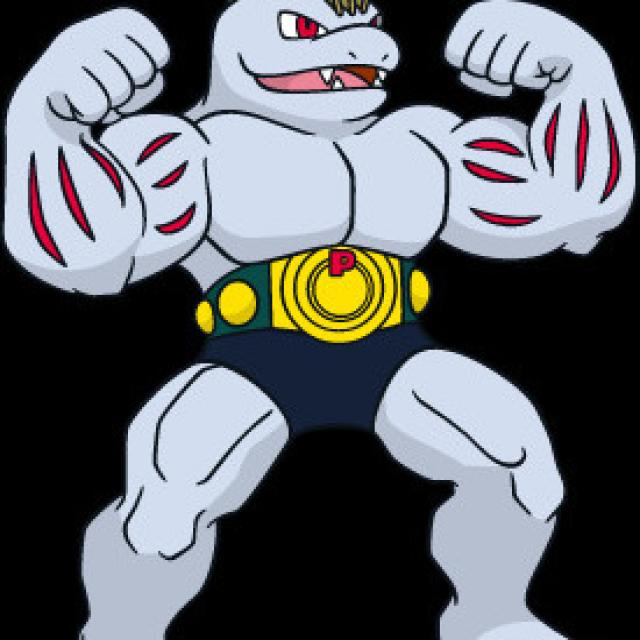Machoke: (40, 0, 606, 640)
